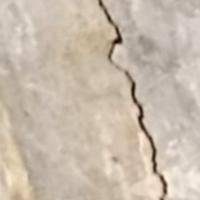crack: (93, 0, 173, 199)
